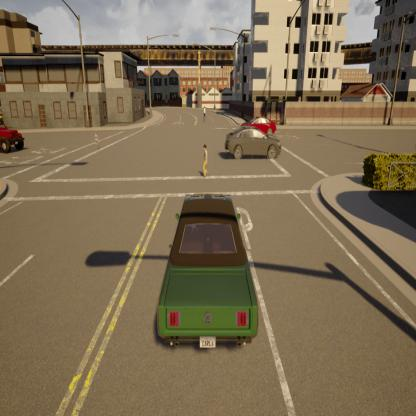Cars: (158, 195, 258, 349), (226, 130, 282, 159), (0, 118, 24, 152), (240, 117, 276, 137), (202, 104, 207, 121)
Pedestrian: (203, 144, 209, 178), (94, 132, 100, 150)
